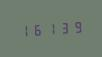nine: (70, 18, 82, 34)
one: (18, 22, 30, 38), (44, 20, 56, 36)
six: (31, 21, 43, 37)
three: (57, 19, 69, 35)
